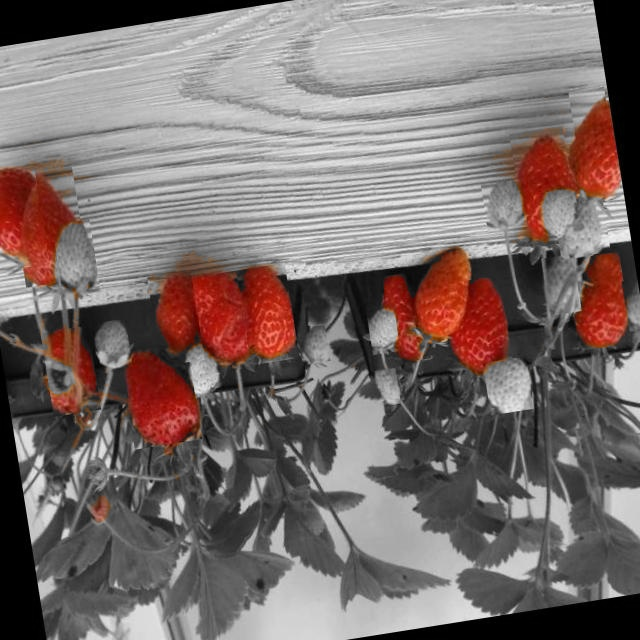ripe: (9, 166, 90, 288), (120, 340, 202, 449), (510, 125, 580, 247), (403, 247, 482, 346), (439, 276, 514, 378), (190, 268, 261, 374), (566, 252, 634, 351), (237, 263, 300, 365), (568, 86, 622, 205), (148, 270, 205, 366), (41, 326, 101, 416), (0, 165, 50, 272), (382, 271, 431, 364)
unripe: (52, 219, 102, 300), (554, 198, 612, 260), (482, 356, 534, 416), (533, 188, 583, 246), (542, 253, 582, 316), (481, 179, 528, 232), (94, 318, 134, 374), (366, 303, 401, 355), (297, 323, 331, 365), (370, 368, 401, 408), (621, 278, 640, 343)
